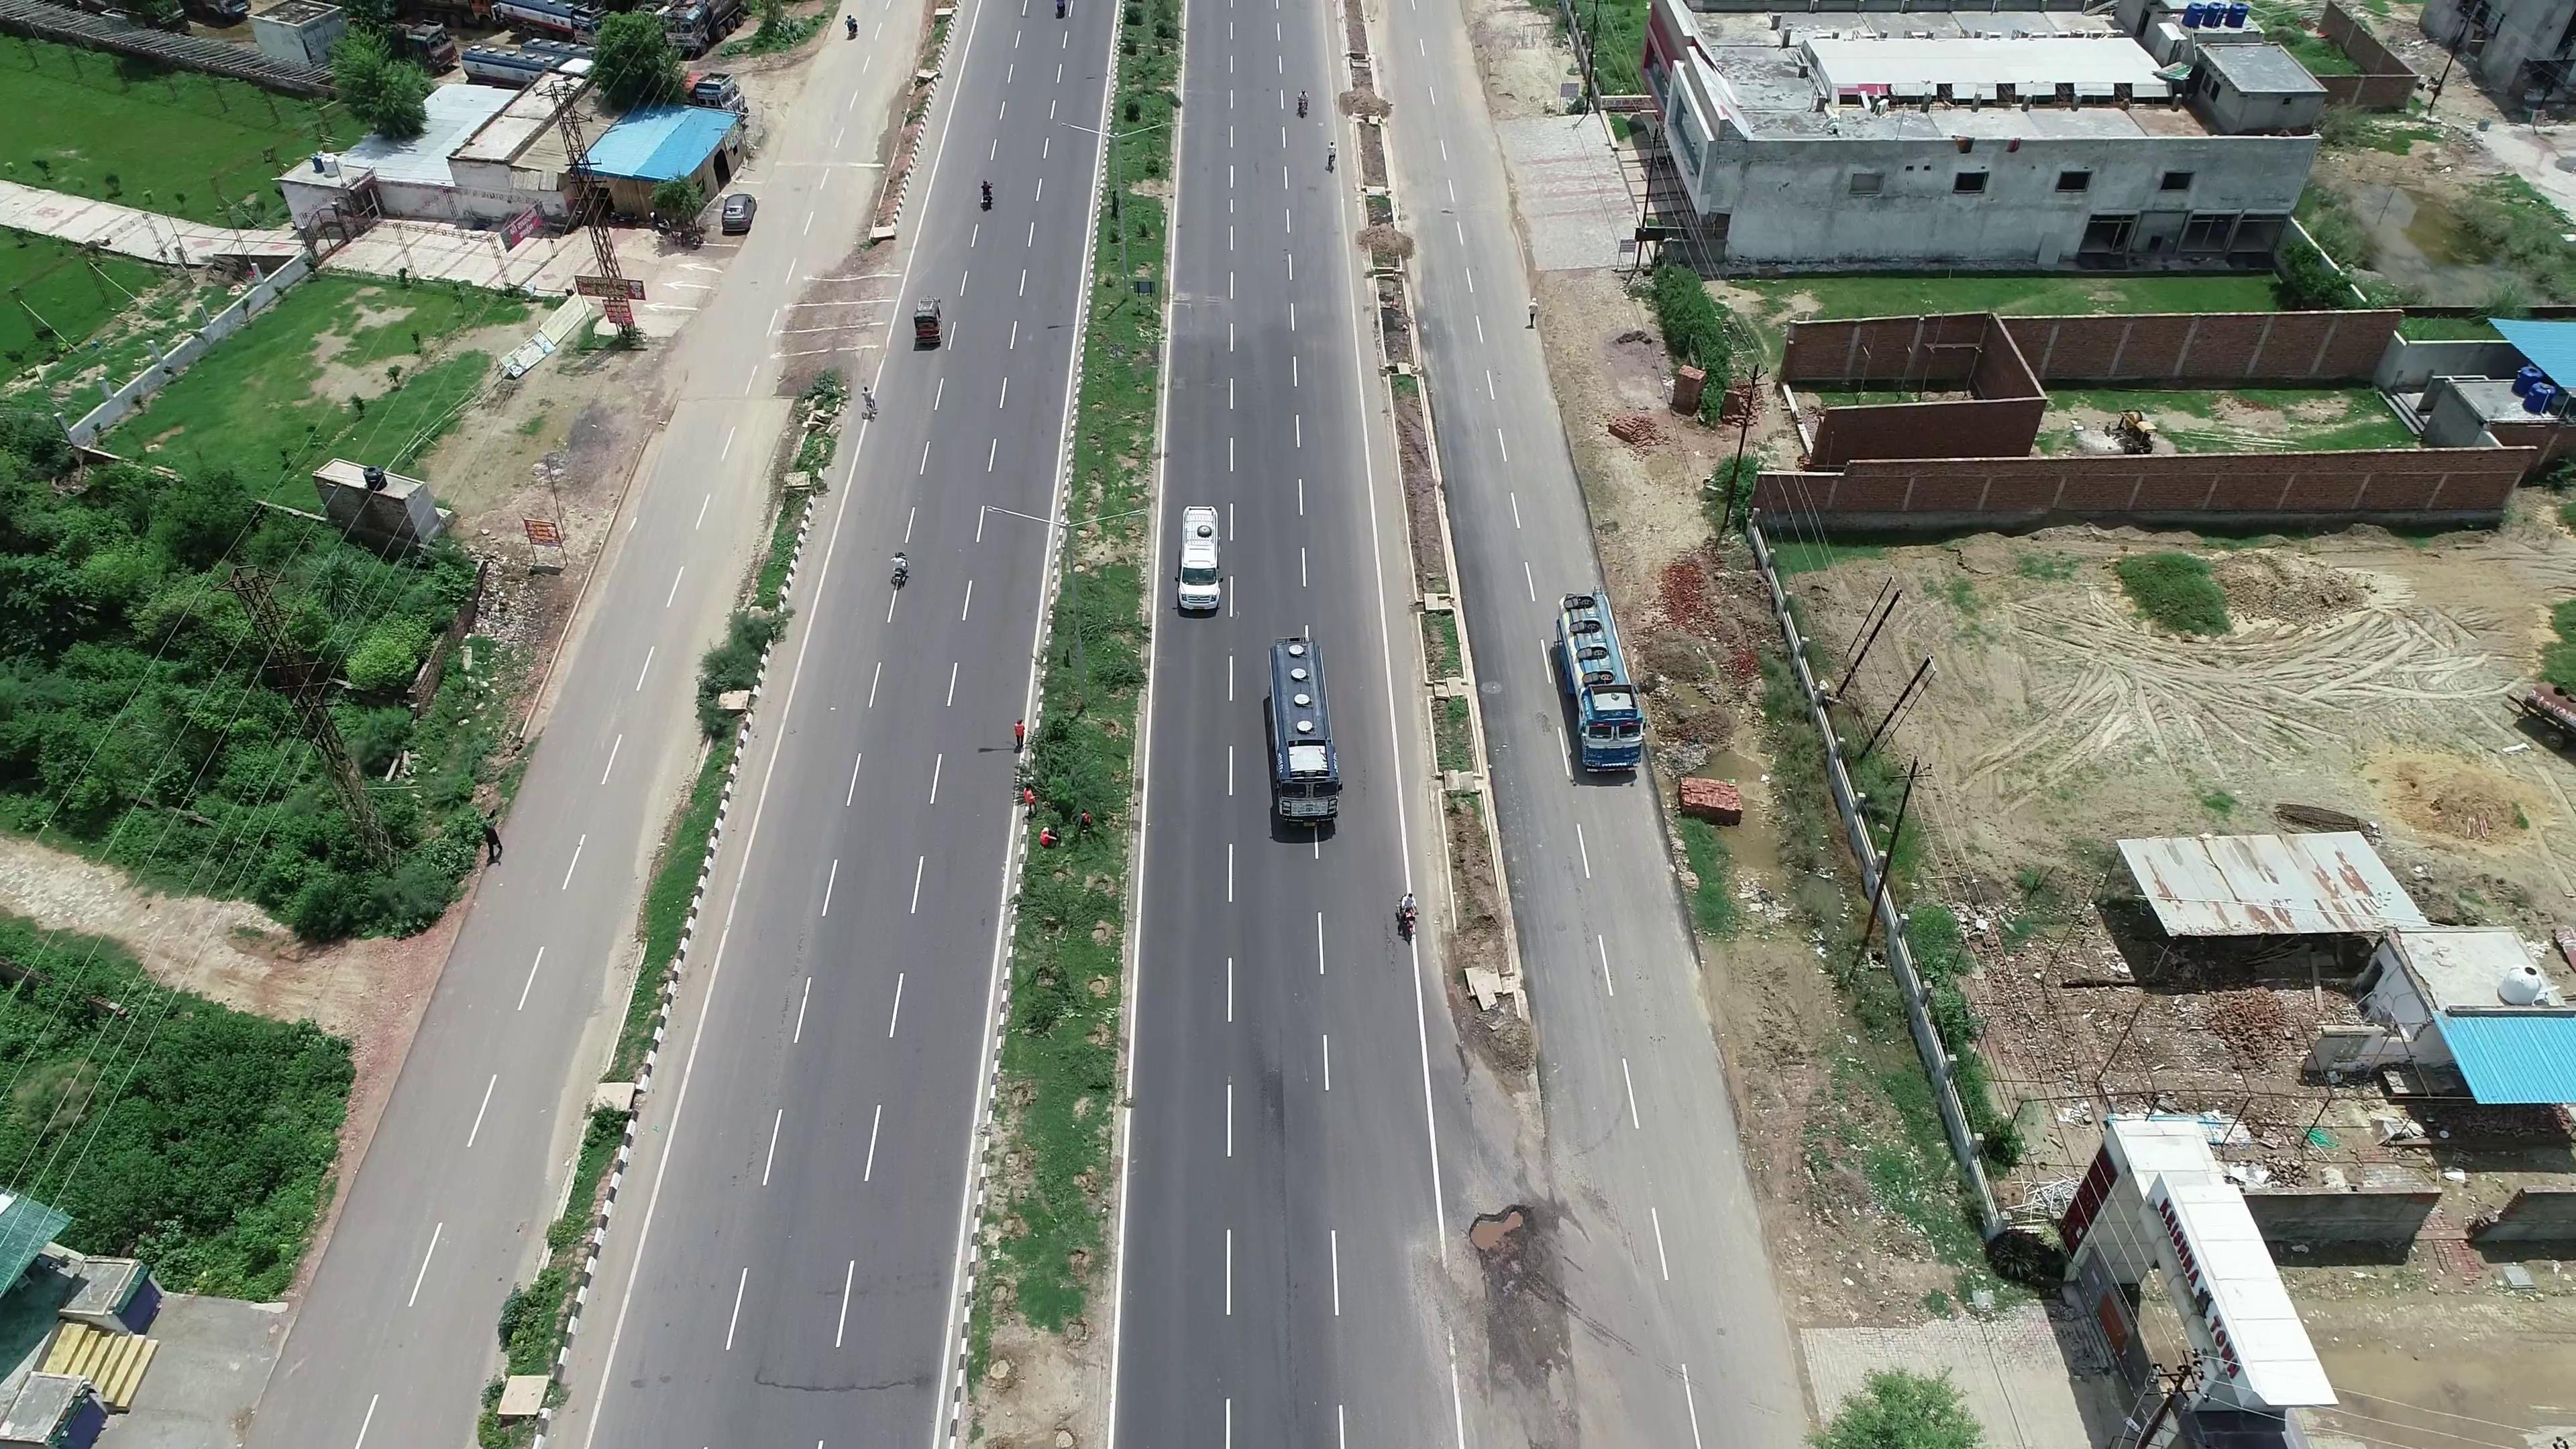Potholes: (1421, 1191, 1557, 1279)
